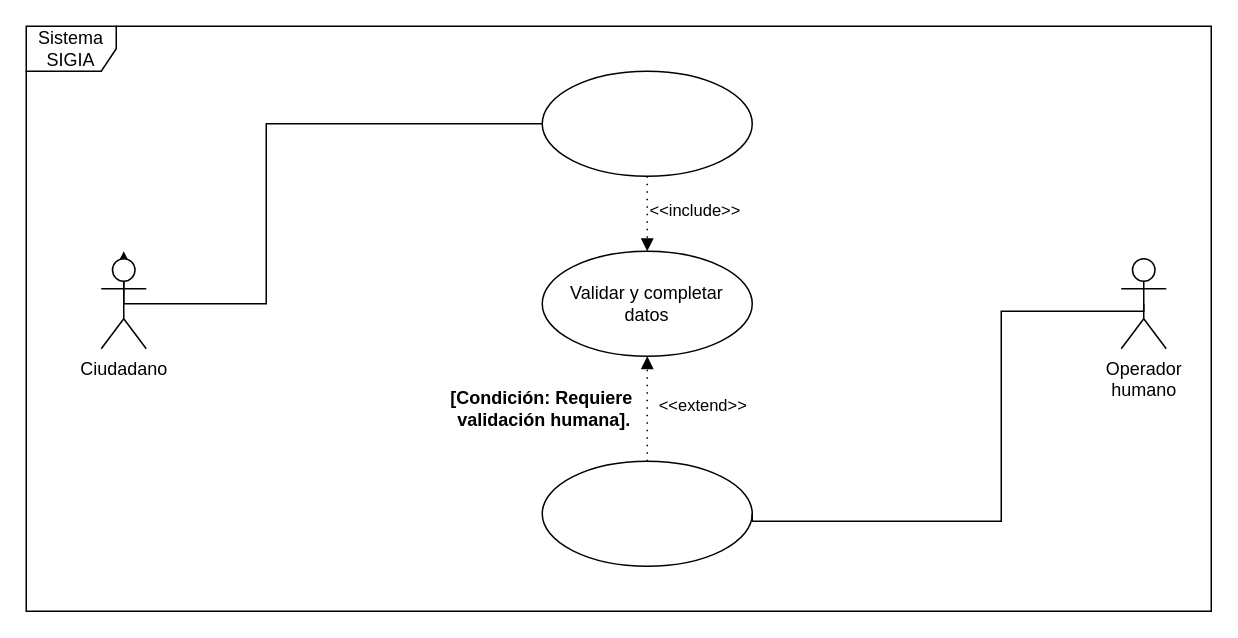
Image size: 1238x638. Some labels were removed from this diagram. The box of each missing label's shape, as (x1, y1, x2, y2) in pixels:
Ingresar Reclamo de alumbrado: (541, 70, 752, 176)
Revisar y aprobar derivacion: (541, 460, 752, 566)
